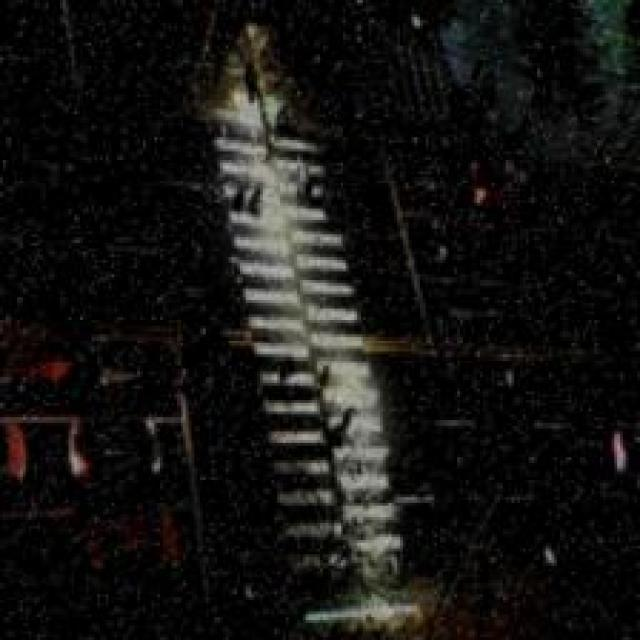crosswalk: (218, 79, 404, 640)
